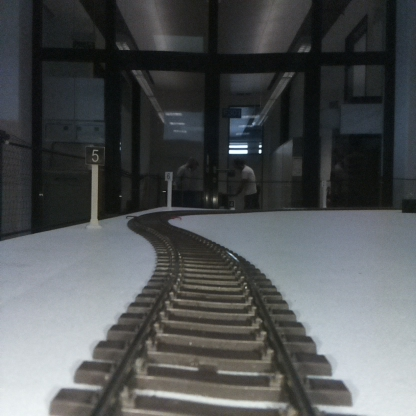black-info-5: (85, 146, 104, 229)
white-info-6: (165, 172, 172, 205)
